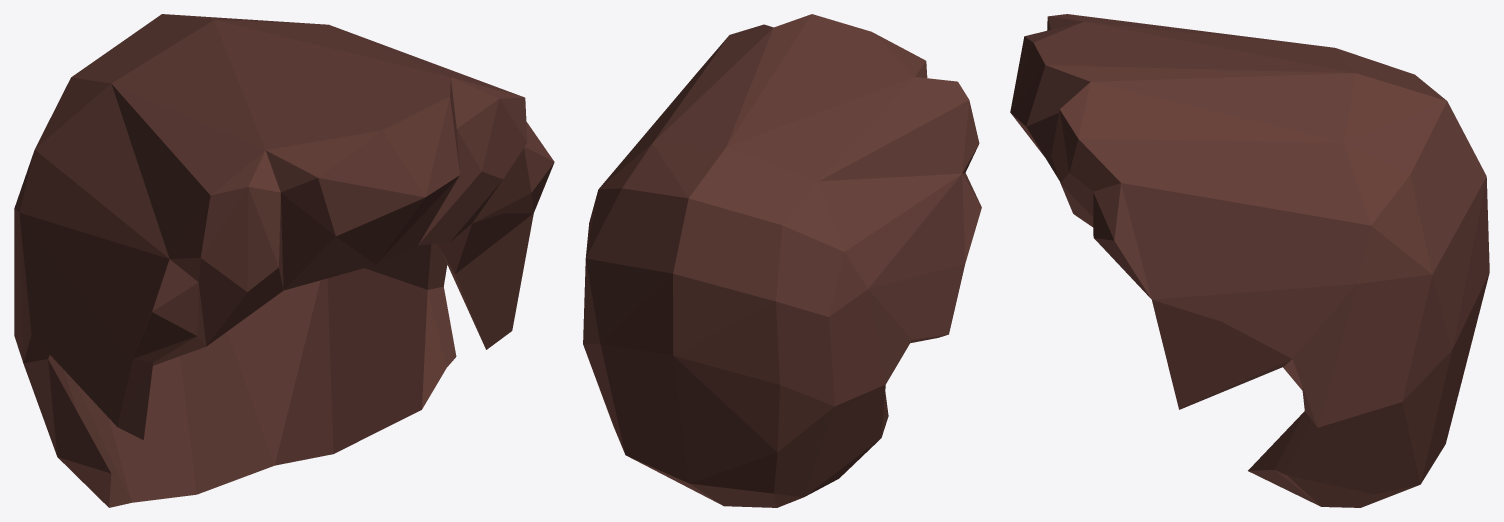
Rendered from Pedestrian_M_Hair_A.fbx.
3 views of the same model, side by side, from view 1: azimuth 30°, elevation 25°; view 2: azimuth 150°, elevation 25°; view 3: azimuth 270°, elevation 25° (orthographic). The views are drawn at different scales.
Parts seen in each view (by area): view 1: Pedestrian_M_Hair_A; view 2: Pedestrian_M_Hair_A; view 3: Pedestrian_M_Hair_A.
Part boxes in pixels (x1,y1,x2,y2): Pedestrian_M_Hair_A: (14, 14, 554, 507); Pedestrian_M_Hair_A: (583, 14, 981, 507); Pedestrian_M_Hair_A: (1010, 14, 1489, 507).
Bounding box in the file's own units: 19.36 × 22.53 × 21.44.
